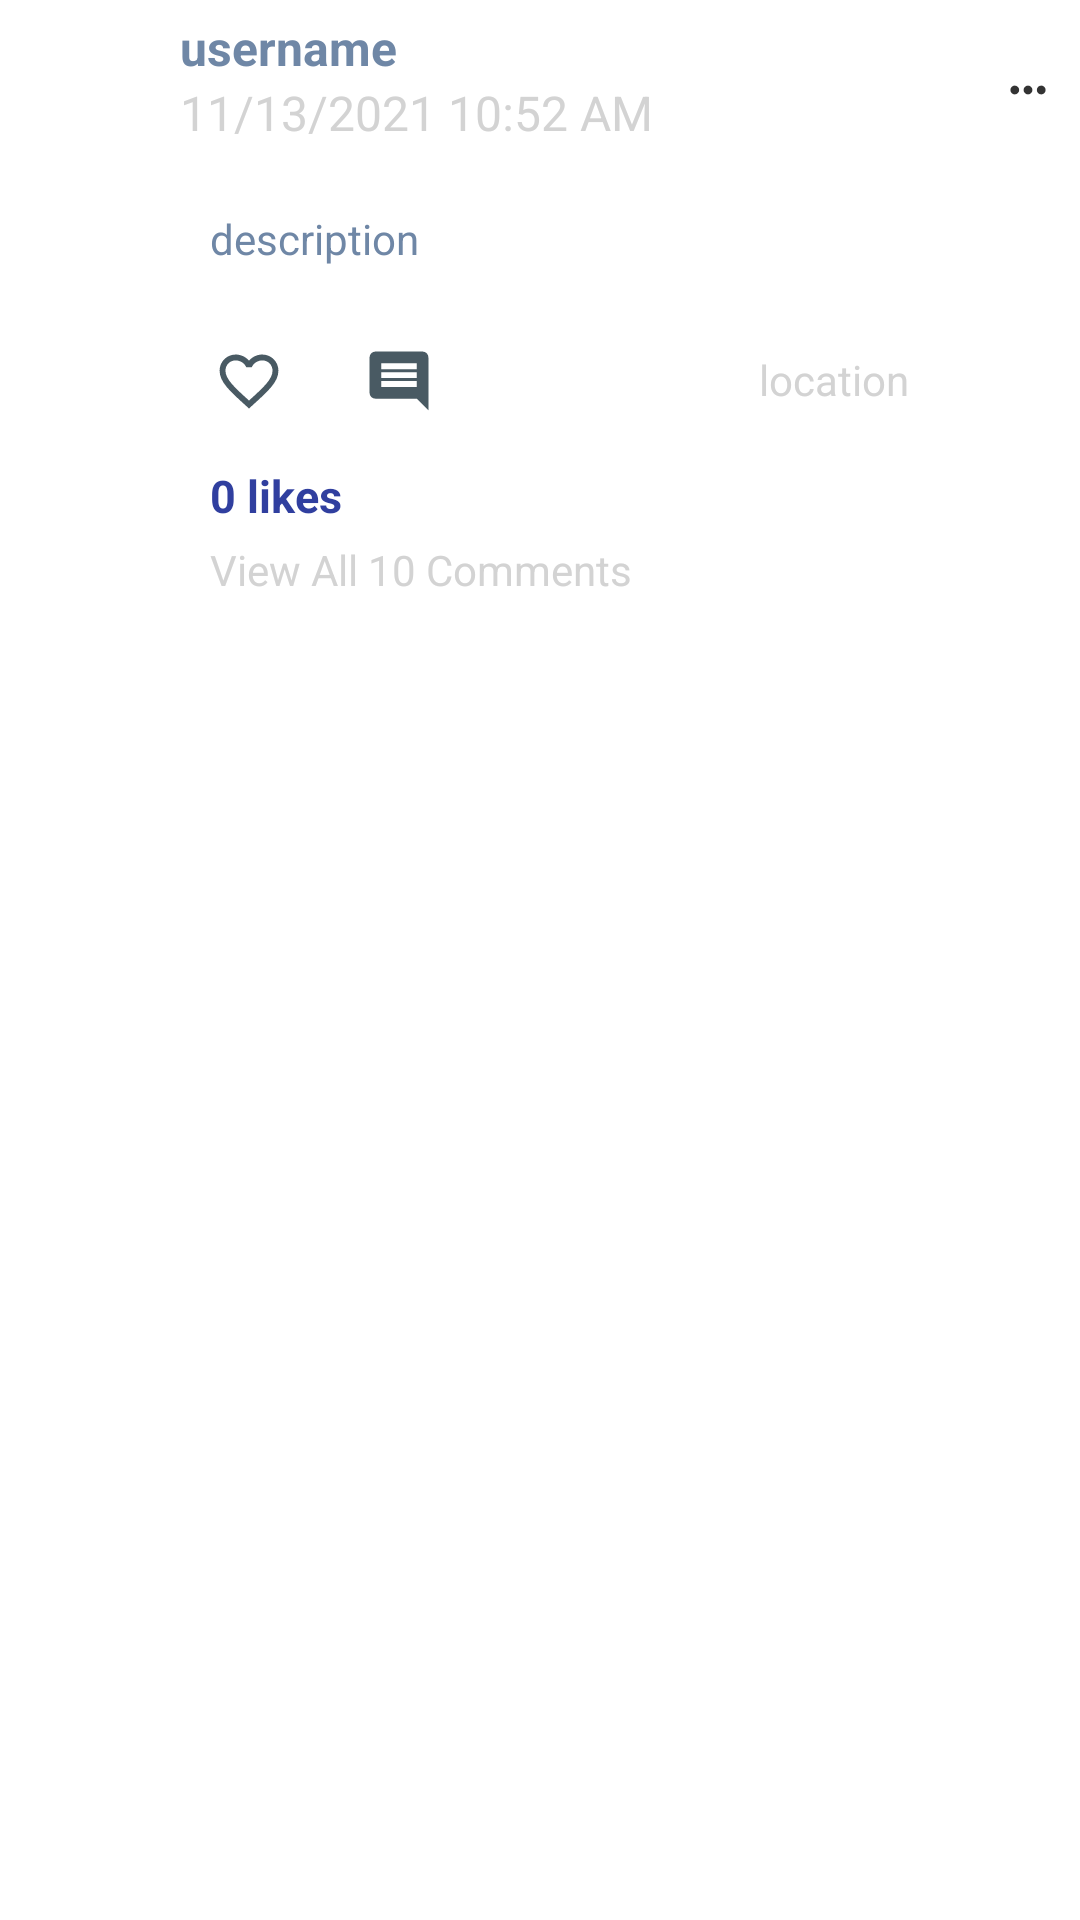

Icons on this 1080w x 1920h Android screen, each with its box as [x1, y1, x2, y2]:
more: [1010, 85, 1046, 95]
